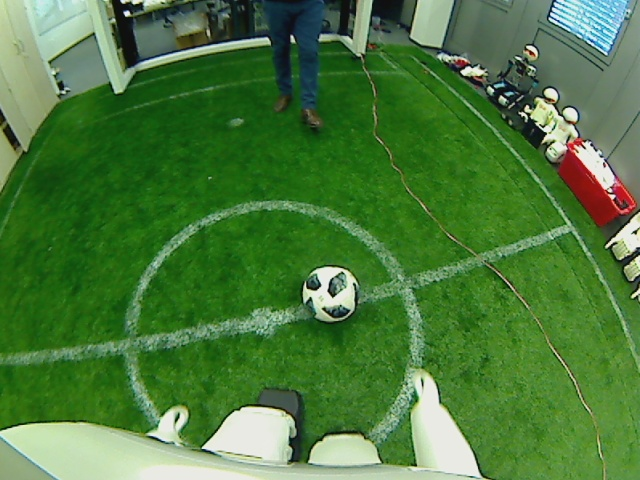ball: (299, 261, 359, 323)
